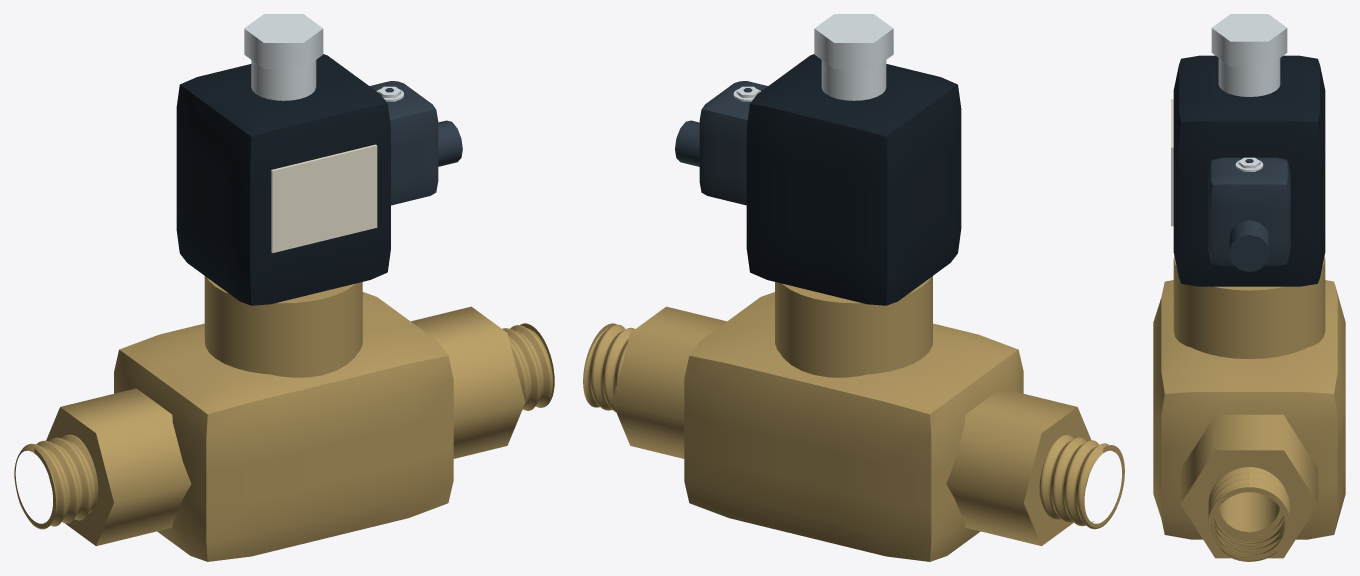
The model's file is water-valve.glb.
3 views of the same model, side by side, from view 1: azimuth 30°, elevation 25°; view 2: azimuth 150°, elevation 25°; view 3: azimuth 270°, elevation 25° (orthographic). The views are drawn at different scales.
Parts seen in each view (by area): view 1: Thân đồng, Cuộn điện từ, Ren nối (×2); view 2: Thân đồng, Cuộn điện từ, Ren nối (×2); view 3: Thân đồng, Cuộn điện từ, Ren nối.
Part boxes in pixels (bbox=[...]): Thân đồng: bbox=[46, 276, 525, 561]; Cuộn điện từ: bbox=[176, 14, 462, 305]; Ren nối (×2): bbox=[14, 323, 554, 529]; Thân đồng: bbox=[612, 276, 1091, 561]; Cuộn điện từ: bbox=[675, 14, 961, 305]; Ren nối (×2): bbox=[583, 323, 1124, 529]; Thân đồng: bbox=[1153, 256, 1345, 558]; Cuộn điện từ: bbox=[1171, 14, 1325, 286]; Ren nối: bbox=[1208, 467, 1290, 561].
Bounding box in the file's own units: 0.8 × 0.74 × 0.28.
